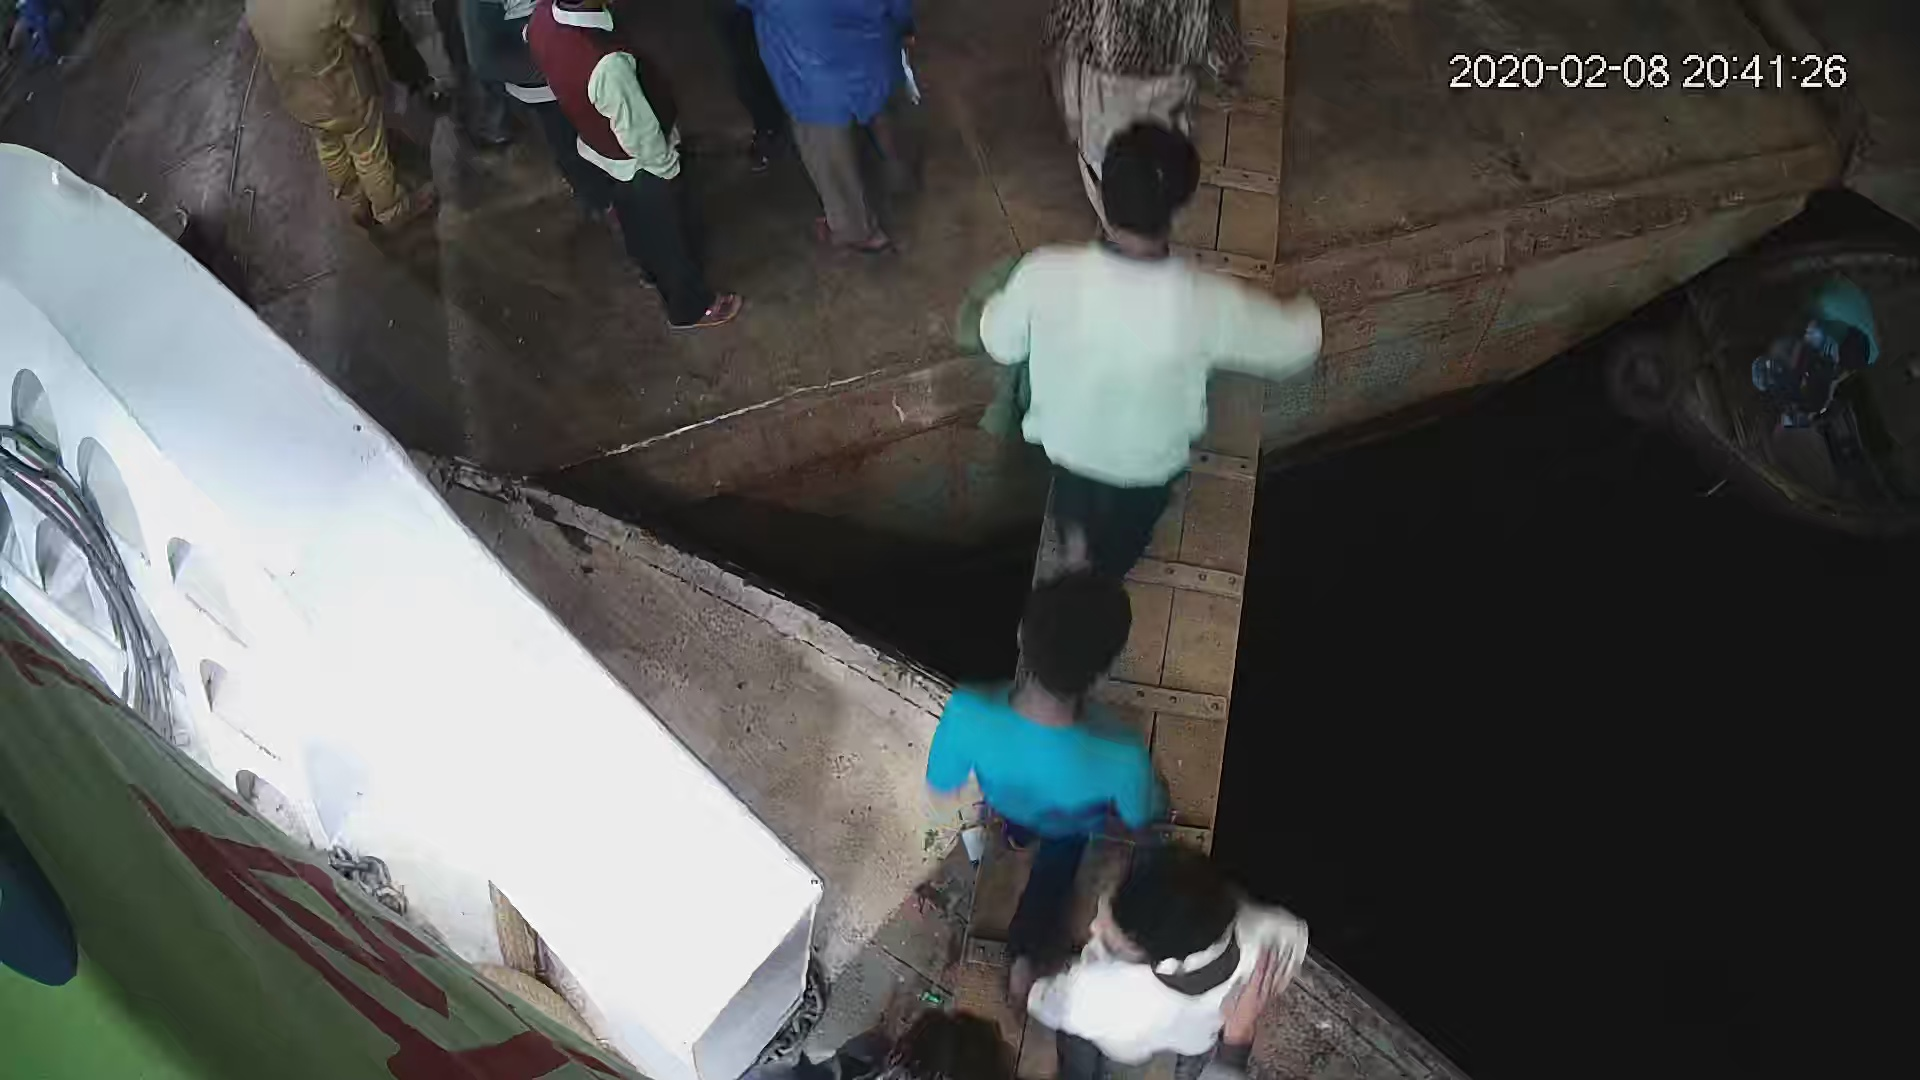person: (975, 118, 1315, 576), (917, 568, 1186, 970), (525, 1, 752, 341), (1029, 840, 1317, 1065), (232, 1, 440, 240), (1731, 266, 1894, 430)
